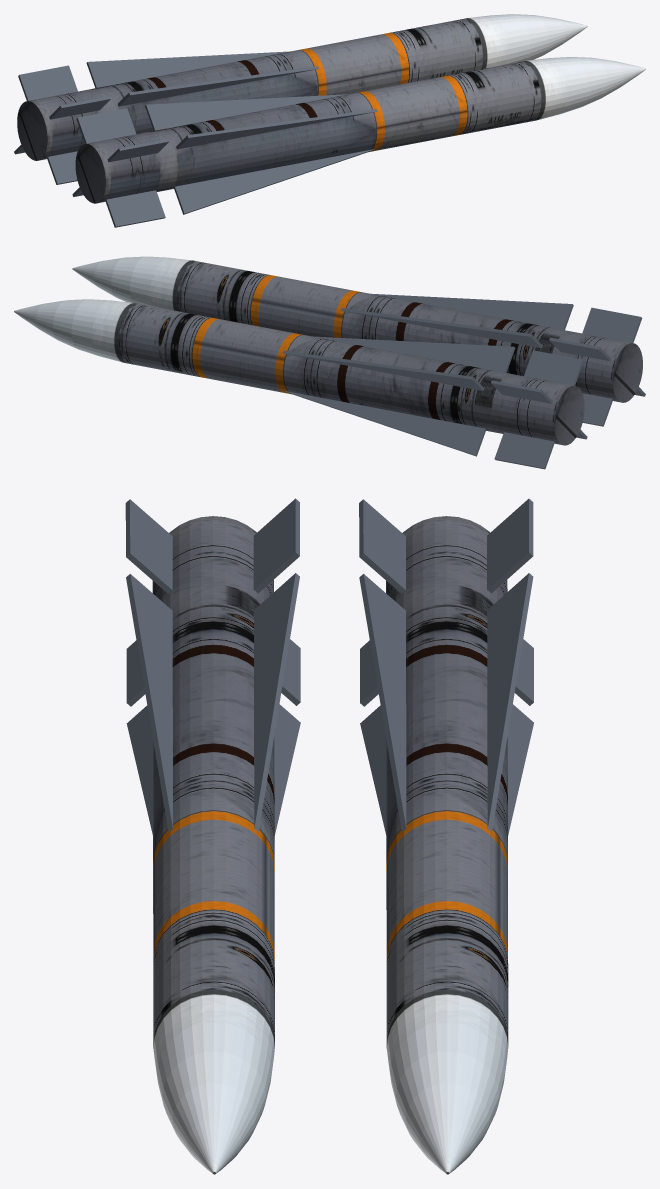
Rendered from f14baim5434.glb.
3 views of the same model, one above another, from view 1: azimuth 30°, elevation 25°; view 2: azimuth 150°, elevation 25°; view 3: azimuth 270°, elevation 25° (orthographic). The views are drawn at different scales.
Parts seen in each view (by area): view 1: 立方体.002, 立方体.003; view 2: 立方体.003, 立方体.002; view 3: 立方体.003, 立方体.002.
Boxes of the visible parts, bbox=[...] form: 立方体.002: bbox=[72, 57, 645, 227]; 立方体.003: bbox=[14, 14, 587, 184]; 立方体.003: bbox=[14, 299, 587, 469]; 立方体.002: bbox=[72, 256, 645, 426]; 立方体.003: bbox=[359, 498, 533, 1174]; 立方体.002: bbox=[125, 498, 300, 1174].
Bounding box in the file's own units: 4.61 × 0.7242 × 1.47.
3 materials, 1 textured.
